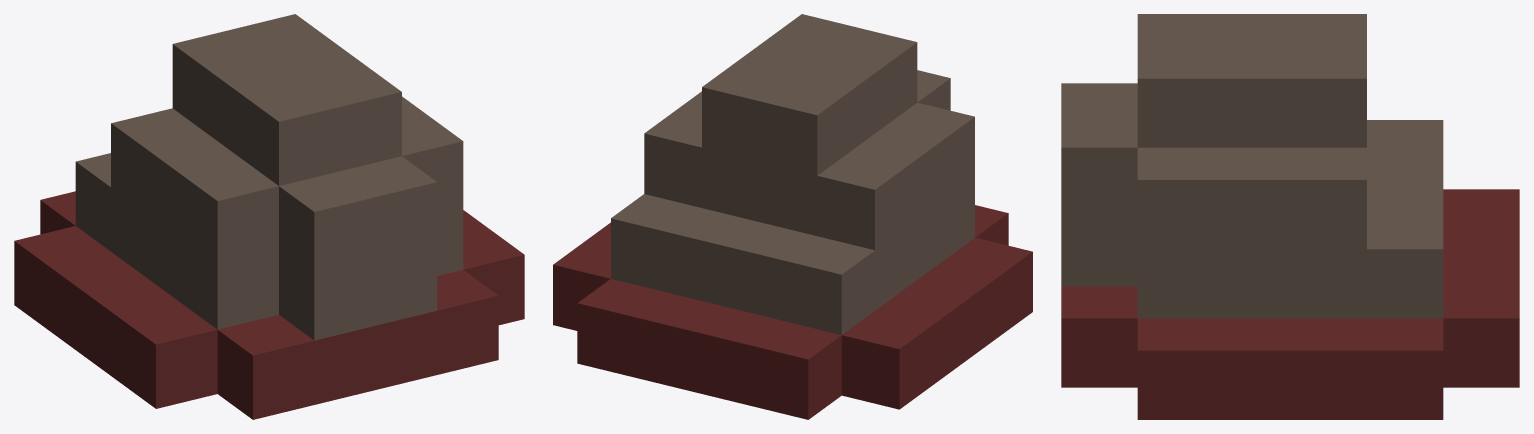
Rendered from char-119-helm_lgt_1b_du_color.obj.
3 views of the same model, side by side, from view 1: azimuth 30°, elevation 25°; view 2: azimuth 150°, elevation 25°; view 3: azimuth 270°, elevation 25° (orthographic). The views are drawn at different scales.
Parts seen in each view (by area): view 1: helm_lgt_1b_du_color; view 2: helm_lgt_1b_du_color; view 3: helm_lgt_1b_du_color.
Part boxes in pixels (x1,y1,x2,y2): helm_lgt_1b_du_color: (14,14,524,419); helm_lgt_1b_du_color: (553,14,1032,419); helm_lgt_1b_du_color: (1061,14,1519,419).
Bounding box in the file's own units: 0.6 × 0.4 × 0.6.
1 material, 1 textured.
